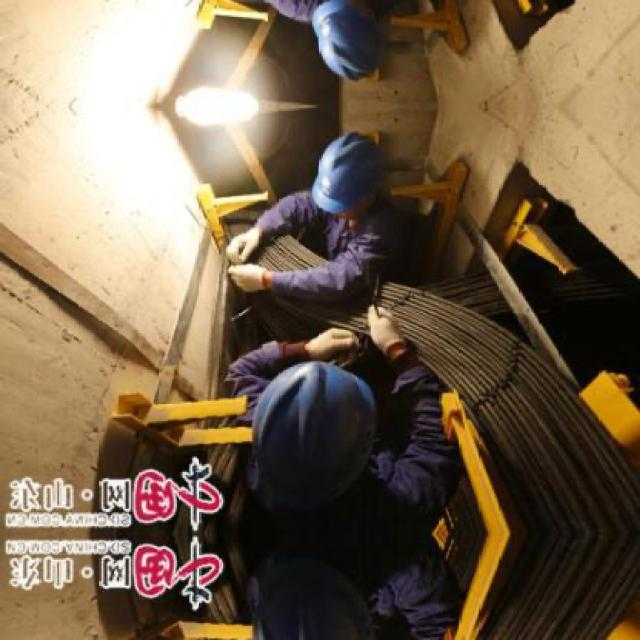con casco: (232, 355, 434, 525), (275, 111, 412, 261)
